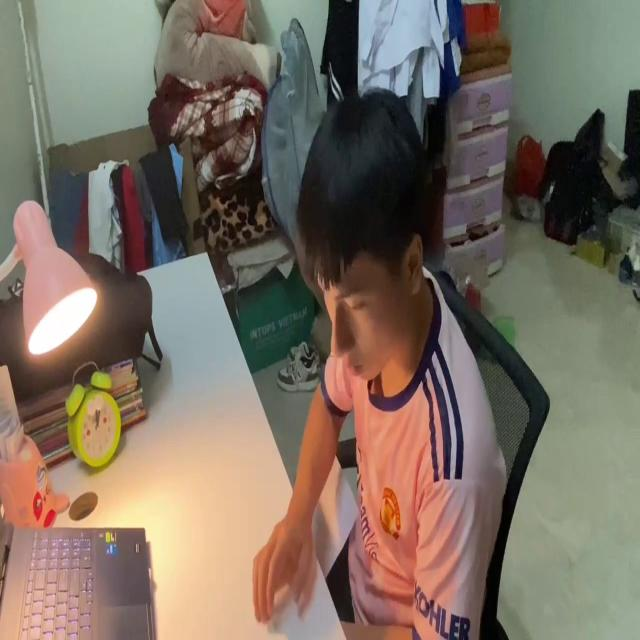book: (314, 456, 358, 564)
laptop: (0, 513, 159, 640)
student: (251, 93, 505, 640)
